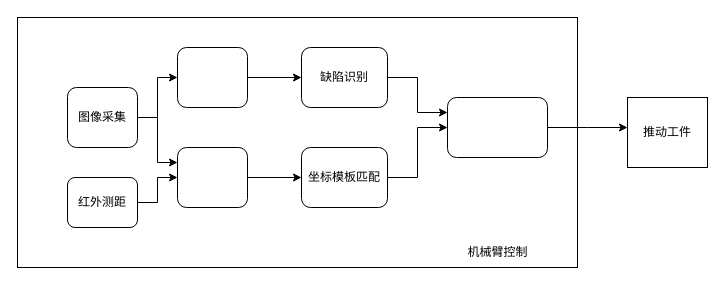
This 725x285 diagram has some shape labels left out. The shapes that lost their labels are listed below. From the top down, each one's centre as x and y in pixels, then its label:
At [212,77]: "图像预处理".
At [497,127]: "PLC机械臂控制".
At [212,177]: "坐标计算".
